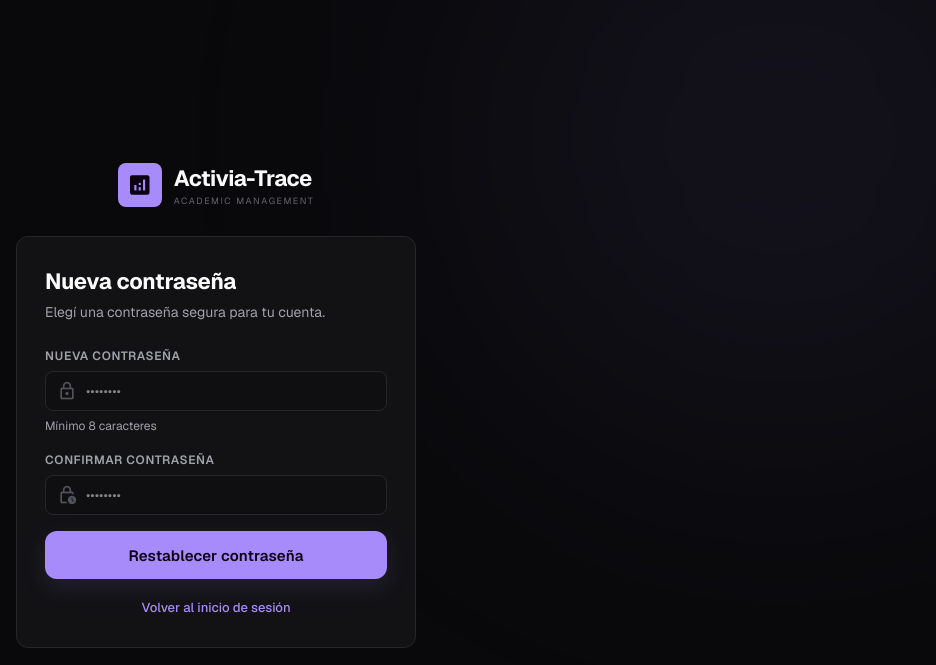
Scenario: ResetPasswordPage › submits valid passwords and shows success
The width and height of the screenshot is (936, 665).
Type "newpassword123" into the password field with placeholder "••••••••".
click(216, 391); type("newpassword123")  # box 45,371 -> 387,411
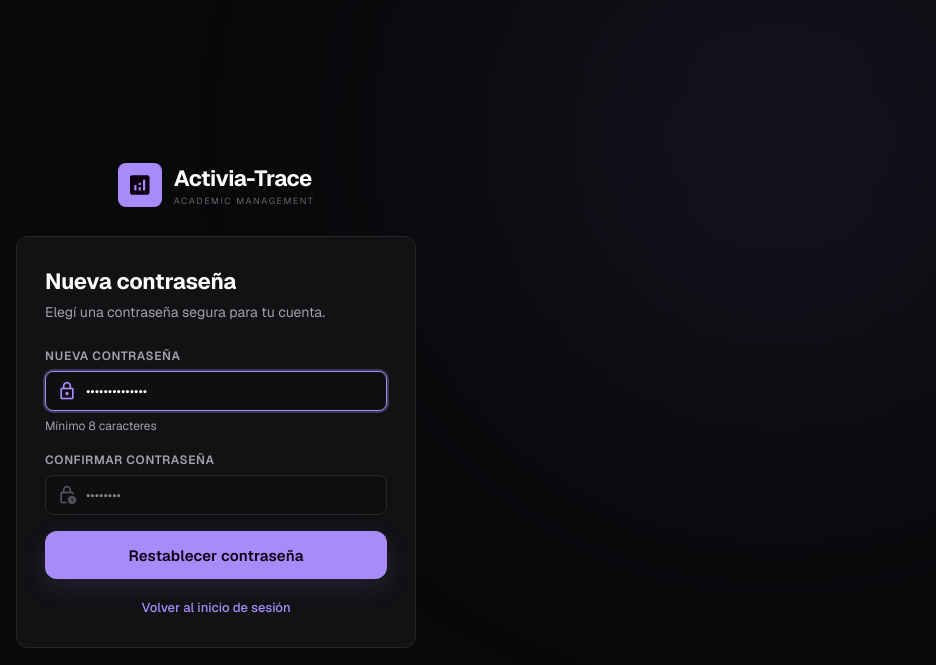
Type "newpassword123" into the password field with placeholder "••••••••".
click(216, 495); type("newpassword123")  # box 45,475 -> 387,515
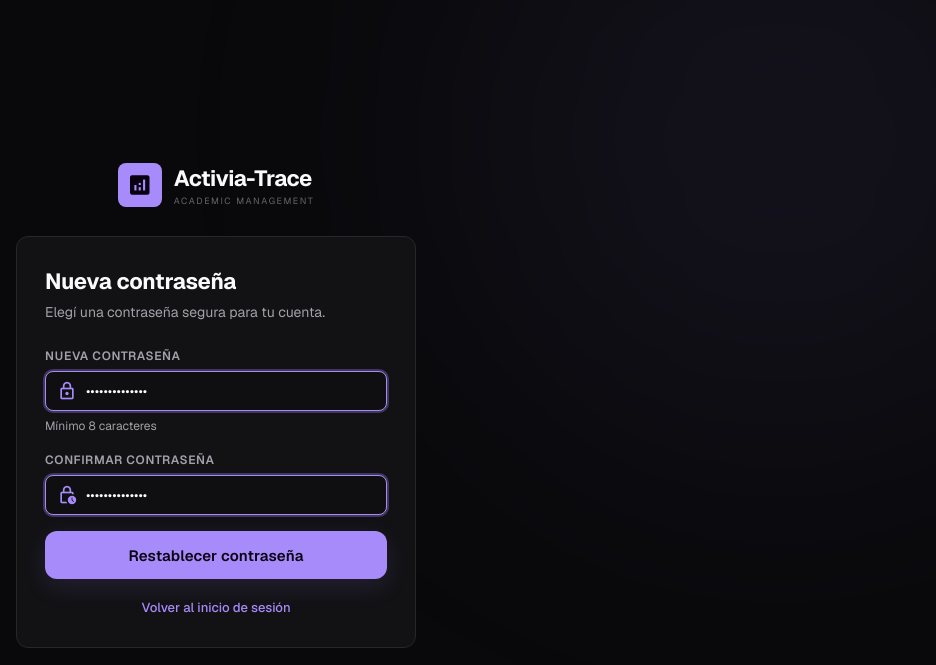
Click the button "Restablecer contraseña".
click(216, 555)  # box 45,531 -> 387,579
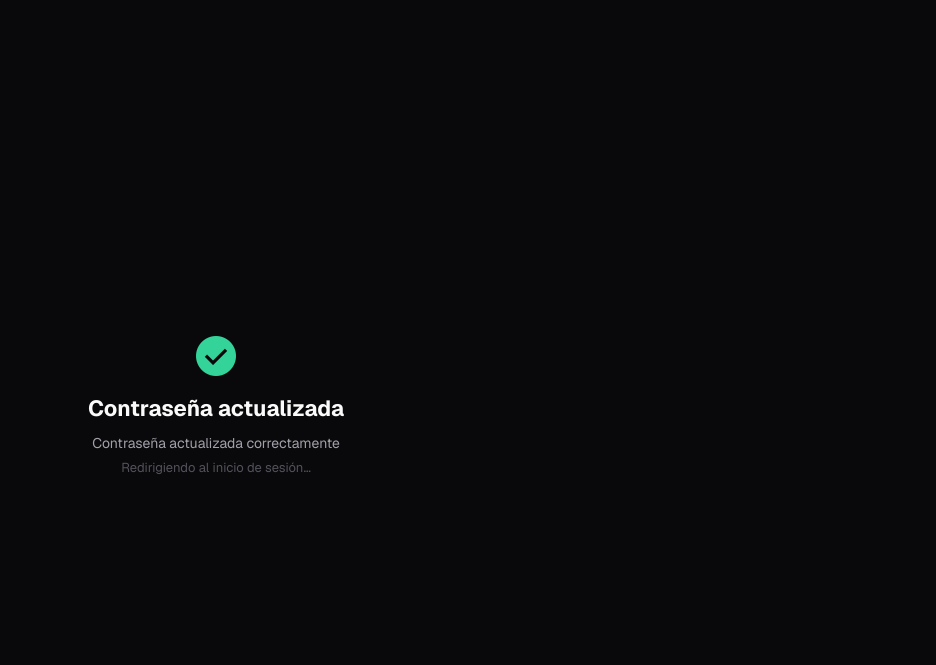
Now the text "Contraseña actualizada correctamente" is shown, box 88,433 -> 344,454
